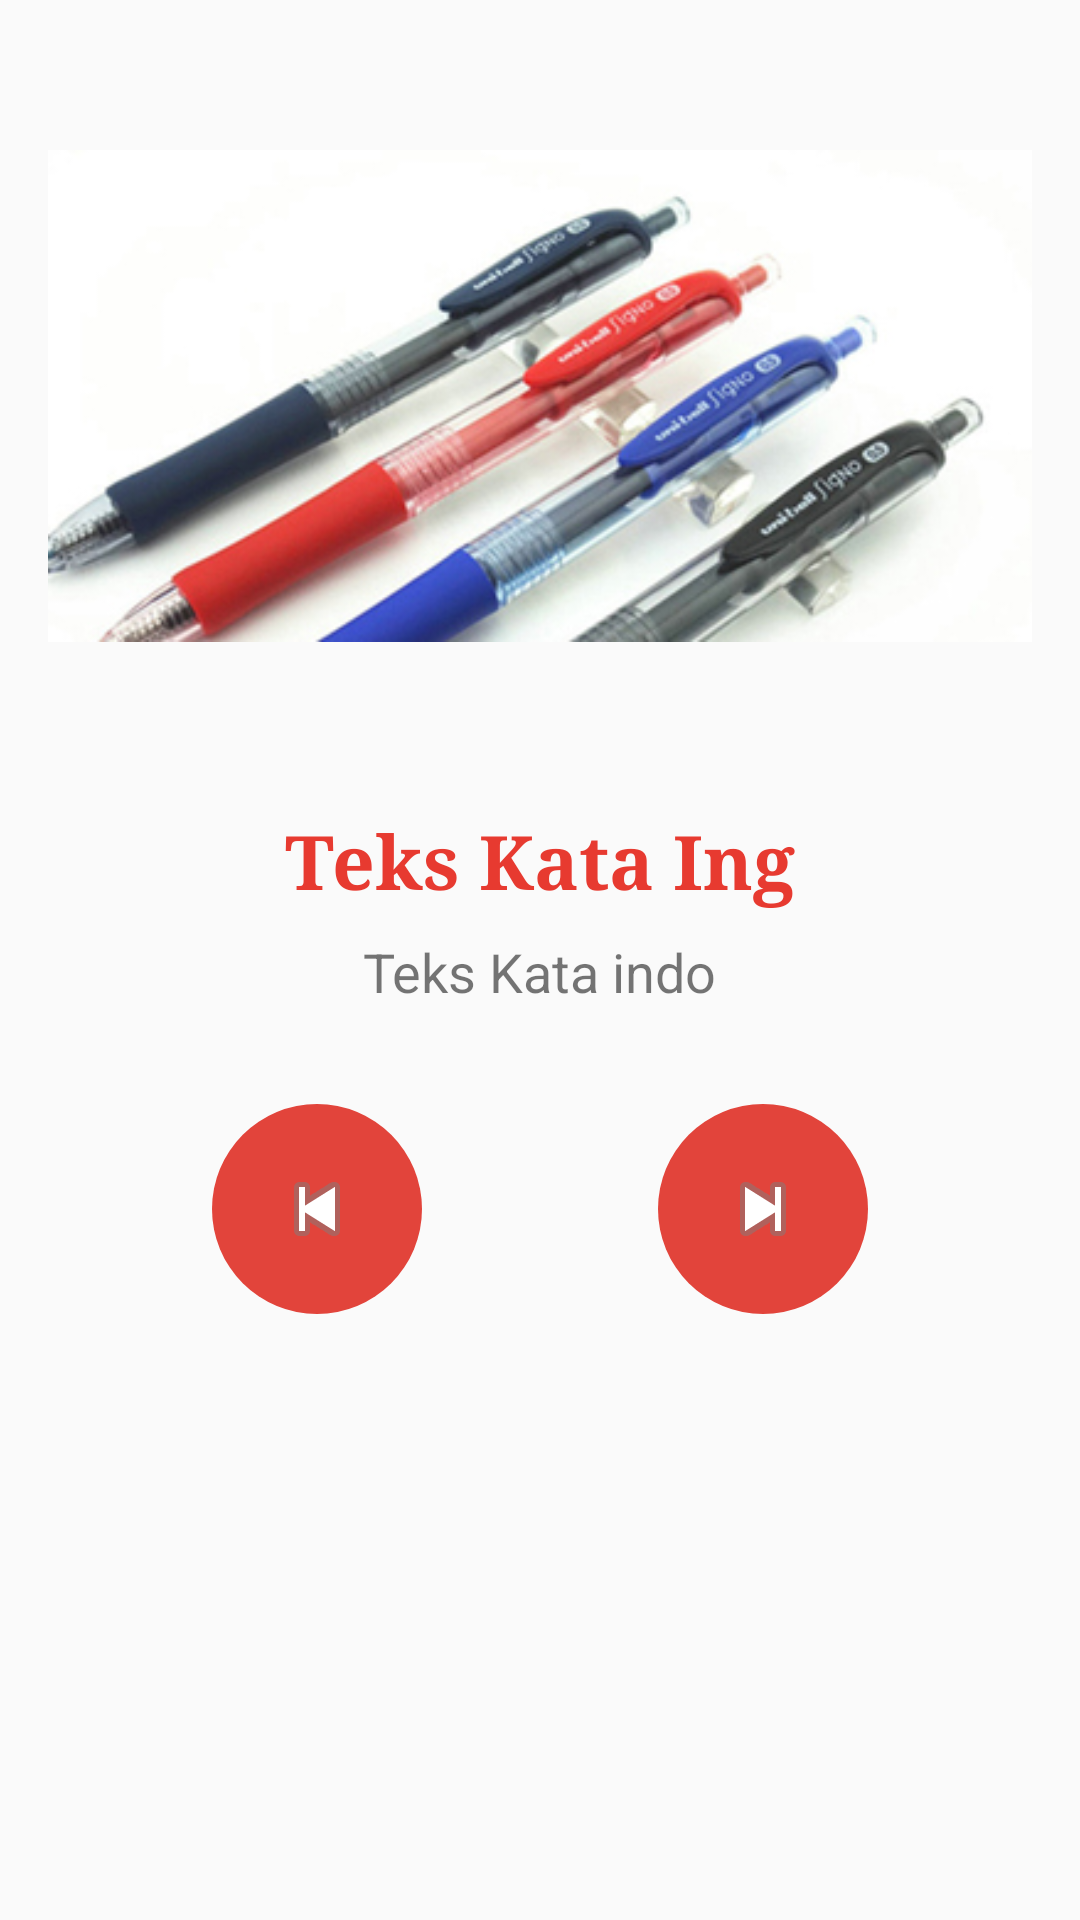

Screen size 1080*1920. Icon name, then its box in pixels as [x1, y1, x2, y2]:
next: [658, 1104, 868, 1314]
previous: [212, 1104, 422, 1314]
